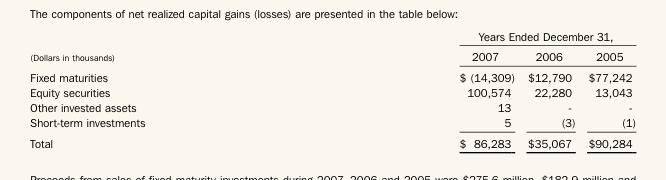table: (29, 28, 635, 149)
table column: (29, 28, 301, 149), (301, 28, 520, 149), (520, 28, 581, 149), (581, 28, 635, 149)
table column header: (29, 28, 635, 66)
table row: (29, 45, 635, 66), (29, 66, 635, 84), (29, 114, 635, 132), (29, 28, 635, 45), (29, 132, 635, 149), (29, 84, 635, 99), (29, 99, 635, 114)
table spanning cell: (29, 28, 301, 66), (301, 28, 635, 45)
